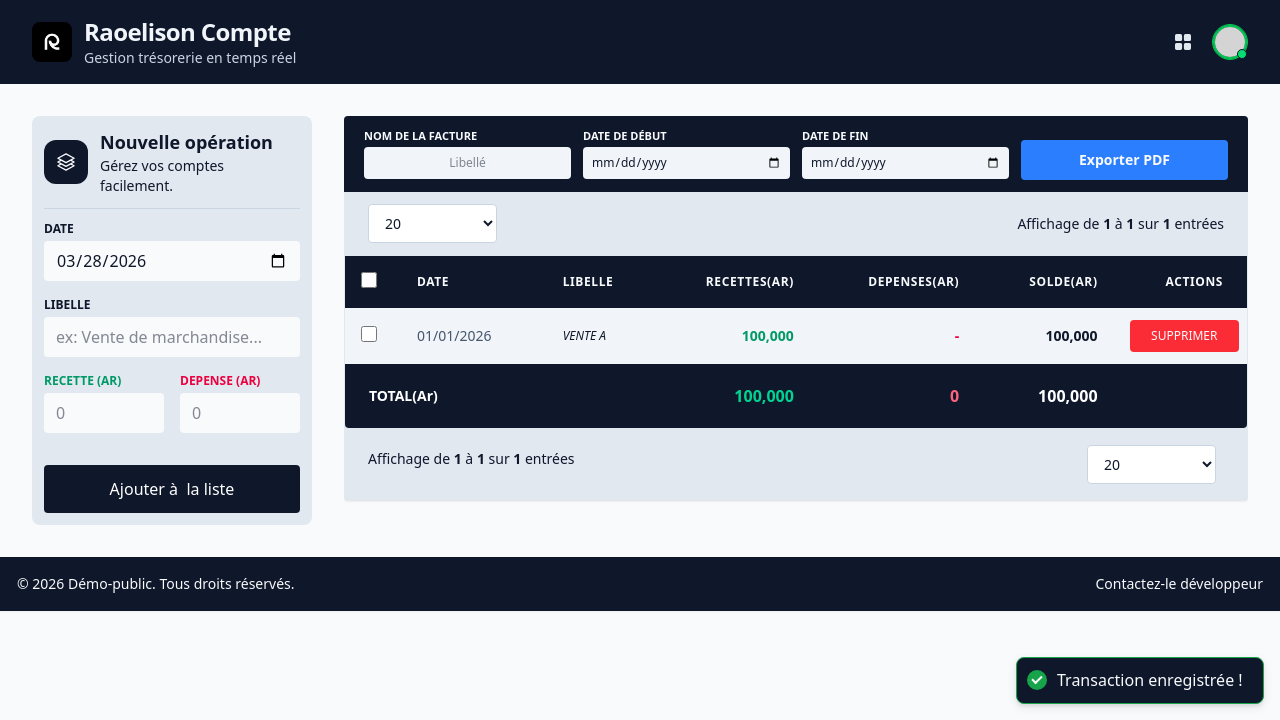
App - Business and critical flows › does not crash when deleting a row after confirmation
Expected: the text "Gestion trésorerie en temps réel" is shown, [84,48,296,68]
Expected: the text "VENTE A" is shown, [539,308,656,364]
Click the button "supprimer": {"x": 1184, "y": 336} [1130,320,1239,352]
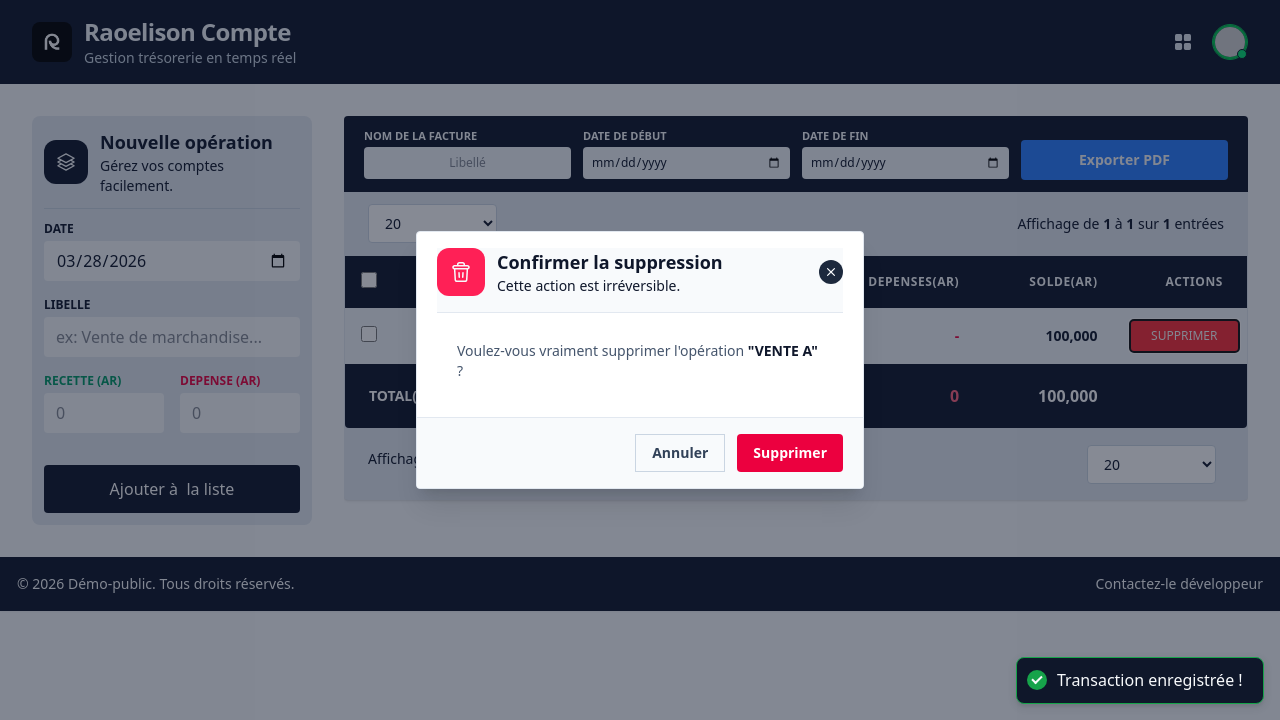
Expected: the text "Confirmer la suppression" is shown, [497,250,723,274]
Click the button "Supprimer": {"x": 790, "y": 453} [737,434,843,472]
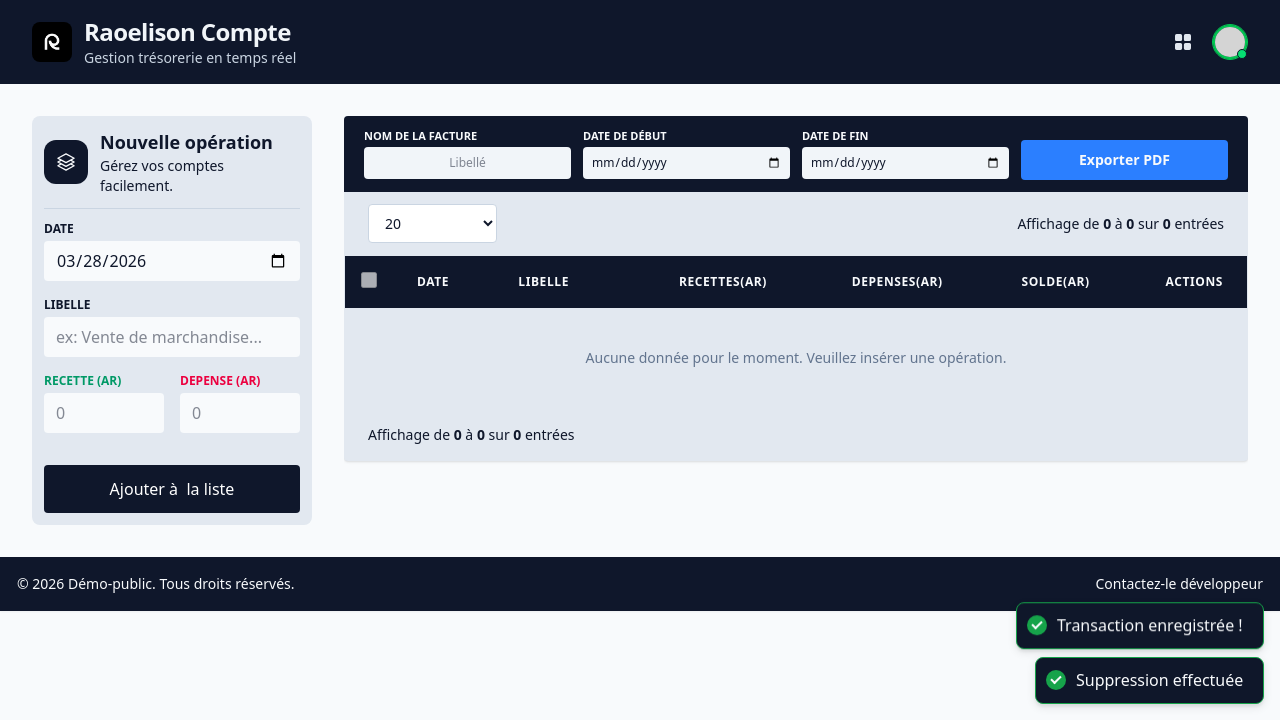
Expected: the heading "Confirmer la suppression" is gone
